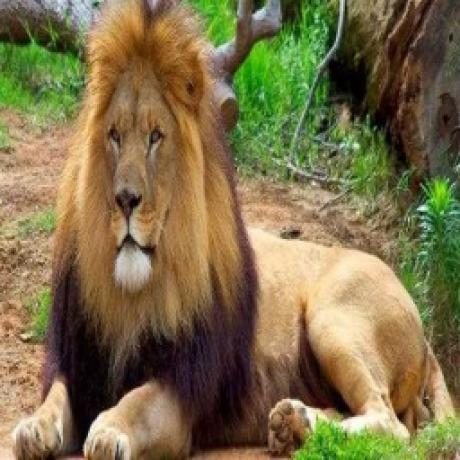Lion: (9, 0, 460, 460)
